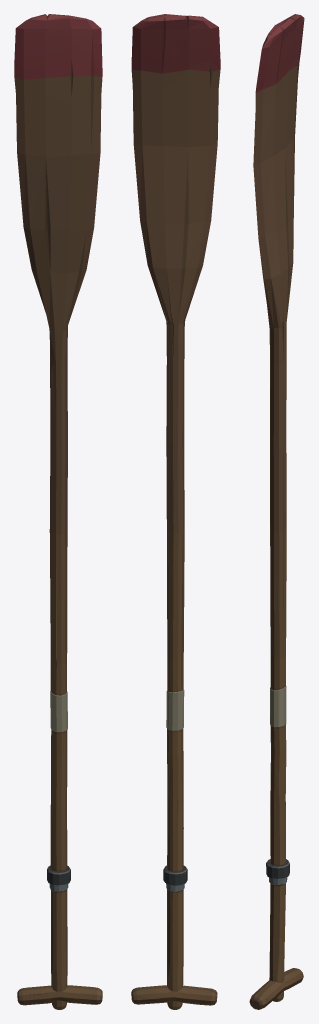
The model's file is pokeHeavyBoatOar.glb.
3 views of the same model, side by side, from view 1: azimuth 30°, elevation 25°; view 2: azimuth 210°, elevation 25°; view 3: azimuth 270°, elevation 25° (orthographic).
Parts seen in each view (by area): view 1: pokeHeavyBoatOar; view 2: pokeHeavyBoatOar; view 3: pokeHeavyBoatOar.
Part boxes in pixels (box(x1,y1,x2,y2)): pokeHeavyBoatOar: box(14, 14, 102, 1009); pokeHeavyBoatOar: box(131, 14, 220, 1009); pokeHeavyBoatOar: box(249, 14, 304, 1009).
Size of the model in its own units: 0.1995 by 2.77 by 0.1411.
